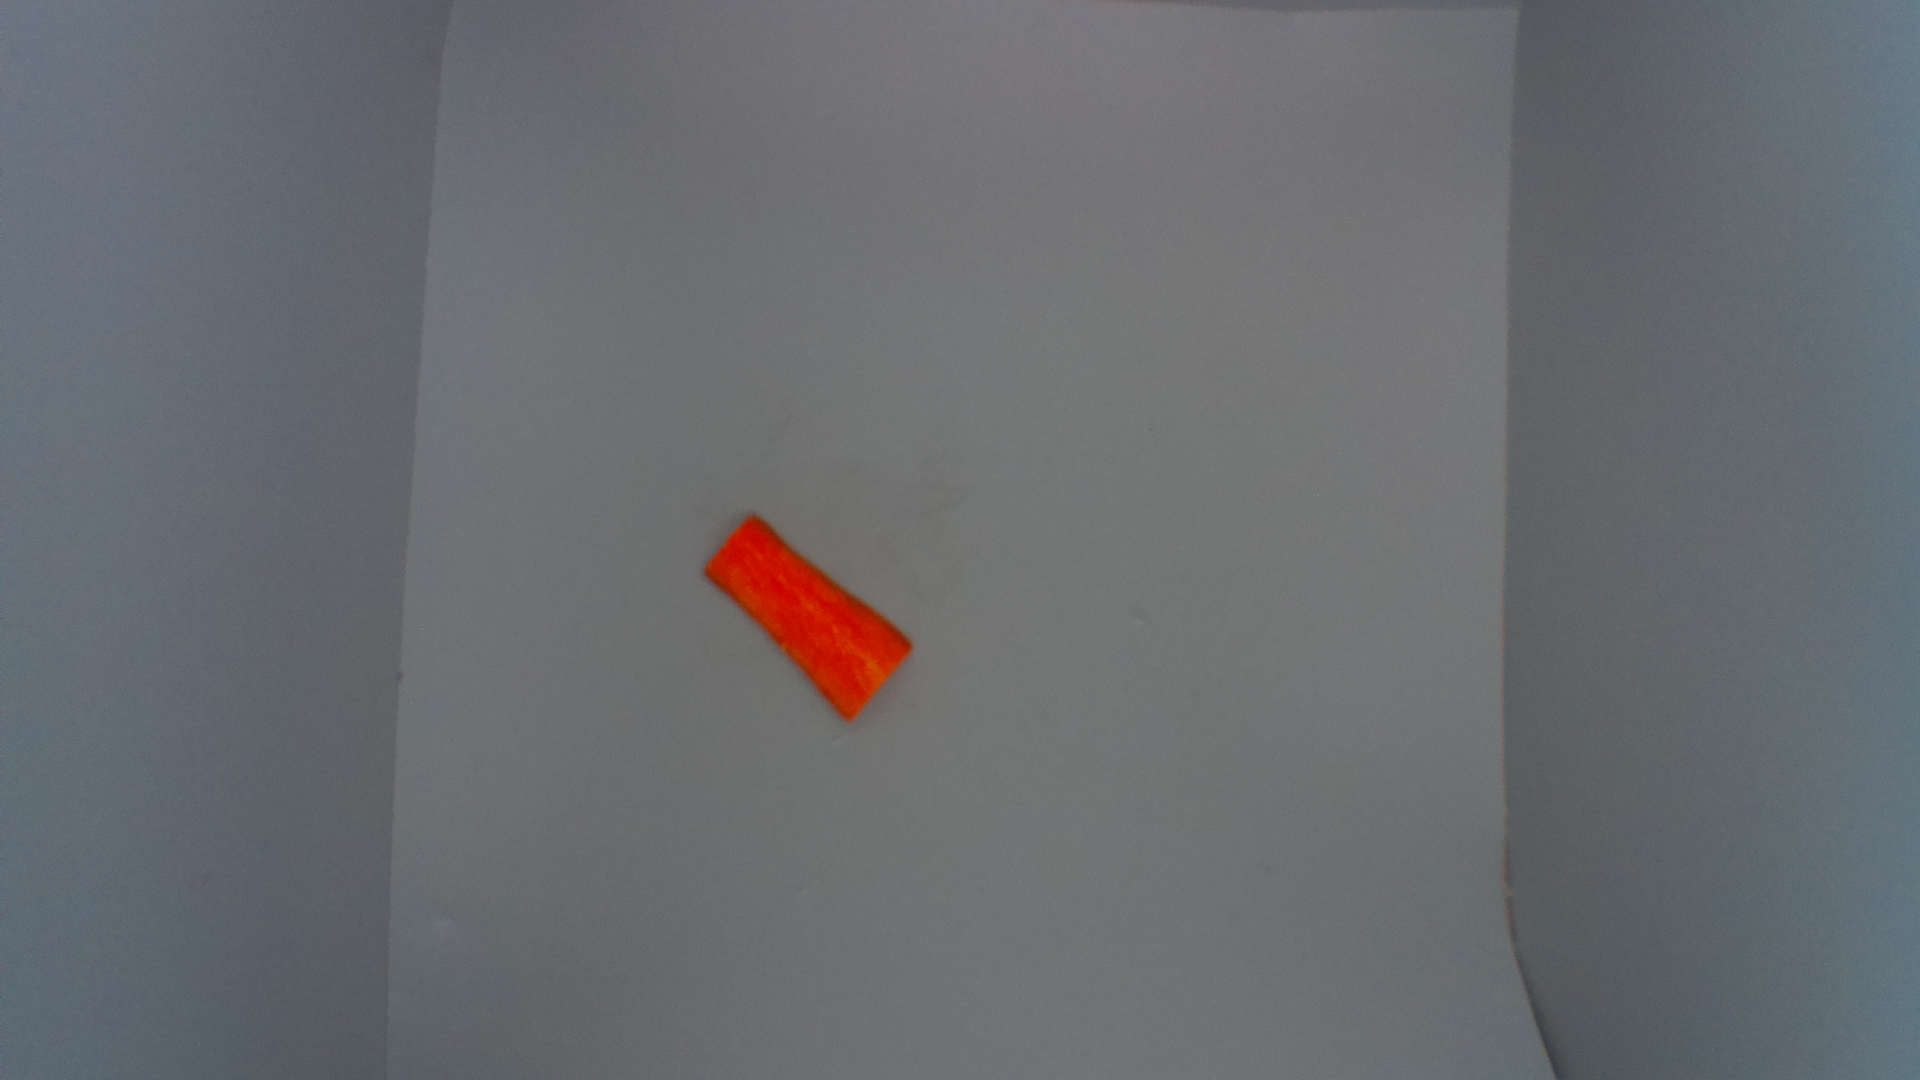carrot: (703, 516, 919, 724)
